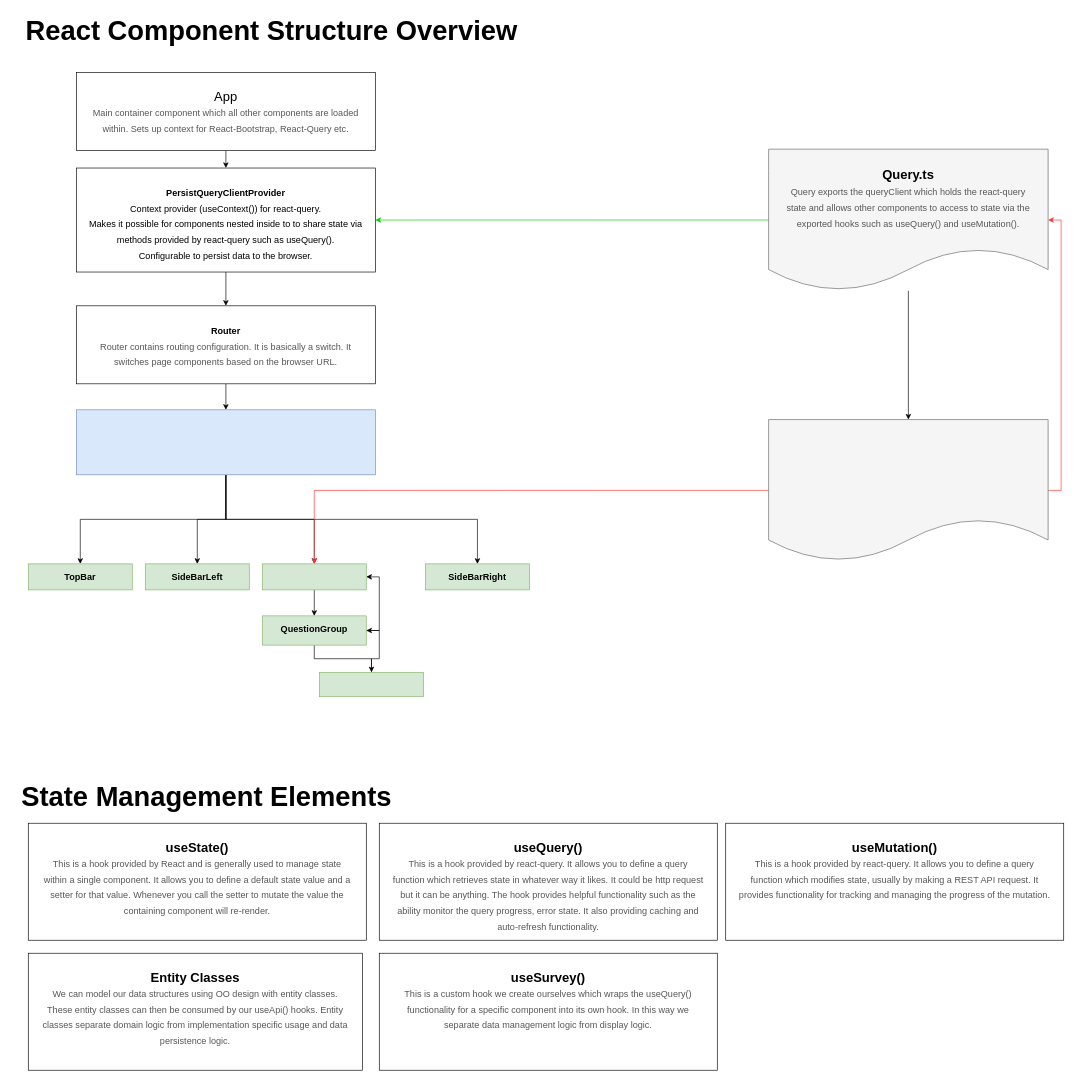
The diagram is 1078 pixels wide and 1082 high, and some of its shapes have lost their labels. Here are the shapes that lost their labels. From the top down, the centre of each, then its label:
pixel 225 442: EditorPage Editor is the layout for our editor. It arranges sub-components.
pixel 908 490: hooks/useSurvey
pixel 314 576: Survey
pixel 371 684: Question
